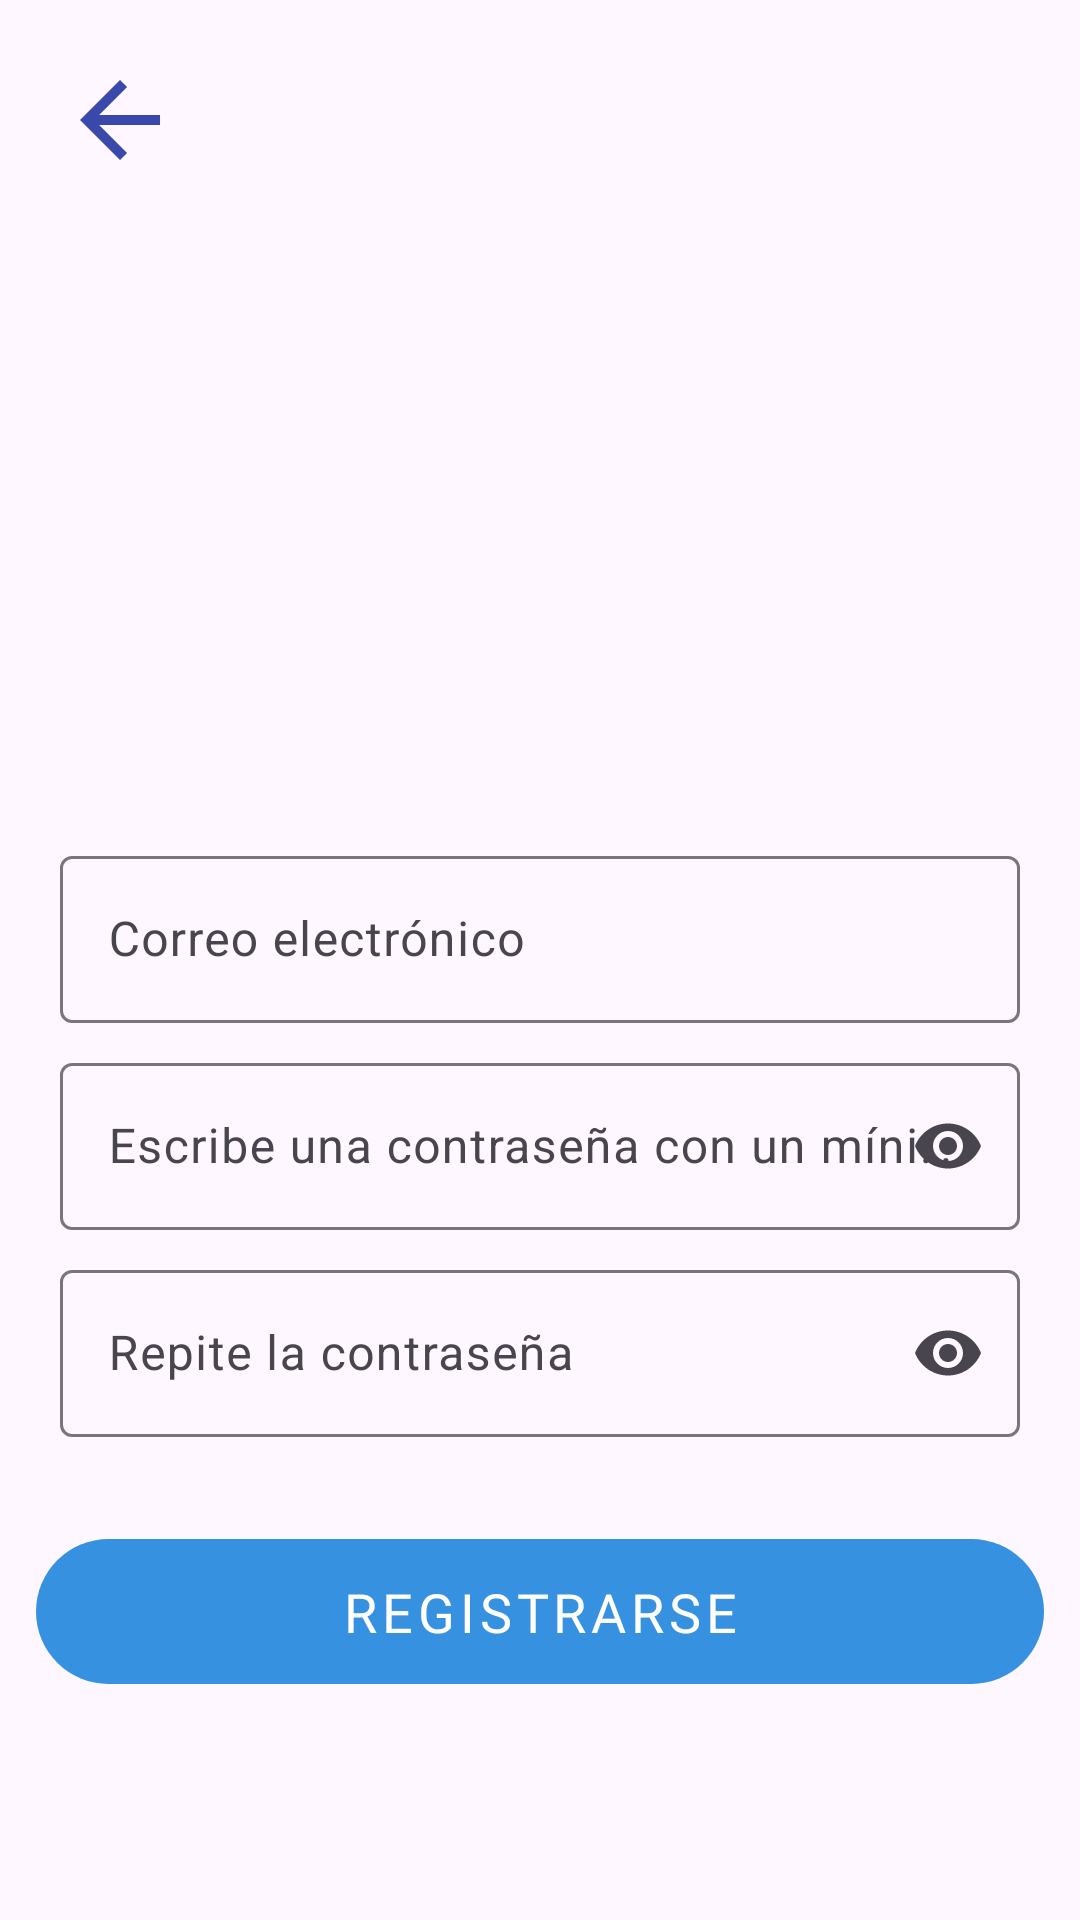

Locate icon controls on the screen. Image size 1080 x 1920, boxes as bbox=[x1, y1, x2, y2].
arrow back: bbox=[80, 80, 160, 160]
